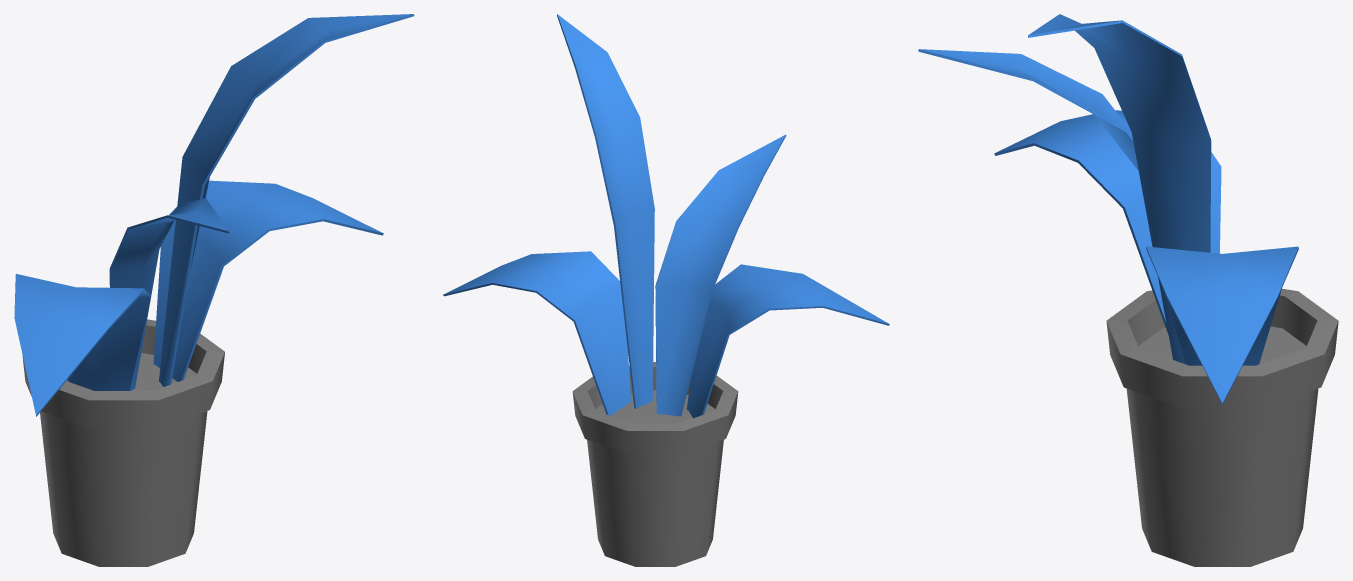
File: SM_plant.fbx
3 views of the same model, side by side, from view 1: azimuth 30°, elevation 25°; view 2: azimuth 150°, elevation 25°; view 3: azimuth 270°, elevation 25° (orthographic). The views are drawn at different scales.
Parts seen in each view (by area): view 1: Object011, Cylinder005; view 2: Object011, Cylinder005; view 3: Object011, Cylinder005.
Boxes of the visible parts, left/top/right/bottom form: Object011: left=14, top=14, right=414, bottom=416; Cylinder005: left=22, top=319, right=224, bottom=566; Object011: left=443, top=14, right=889, bottom=418; Cylinder005: left=572, top=362, right=738, bottom=566; Object011: left=918, top=14, right=1298, bottom=404; Cylinder005: left=1106, top=288, right=1338, bottom=566.
Bounding box in the file's own units: 586 × 672 × 417.
